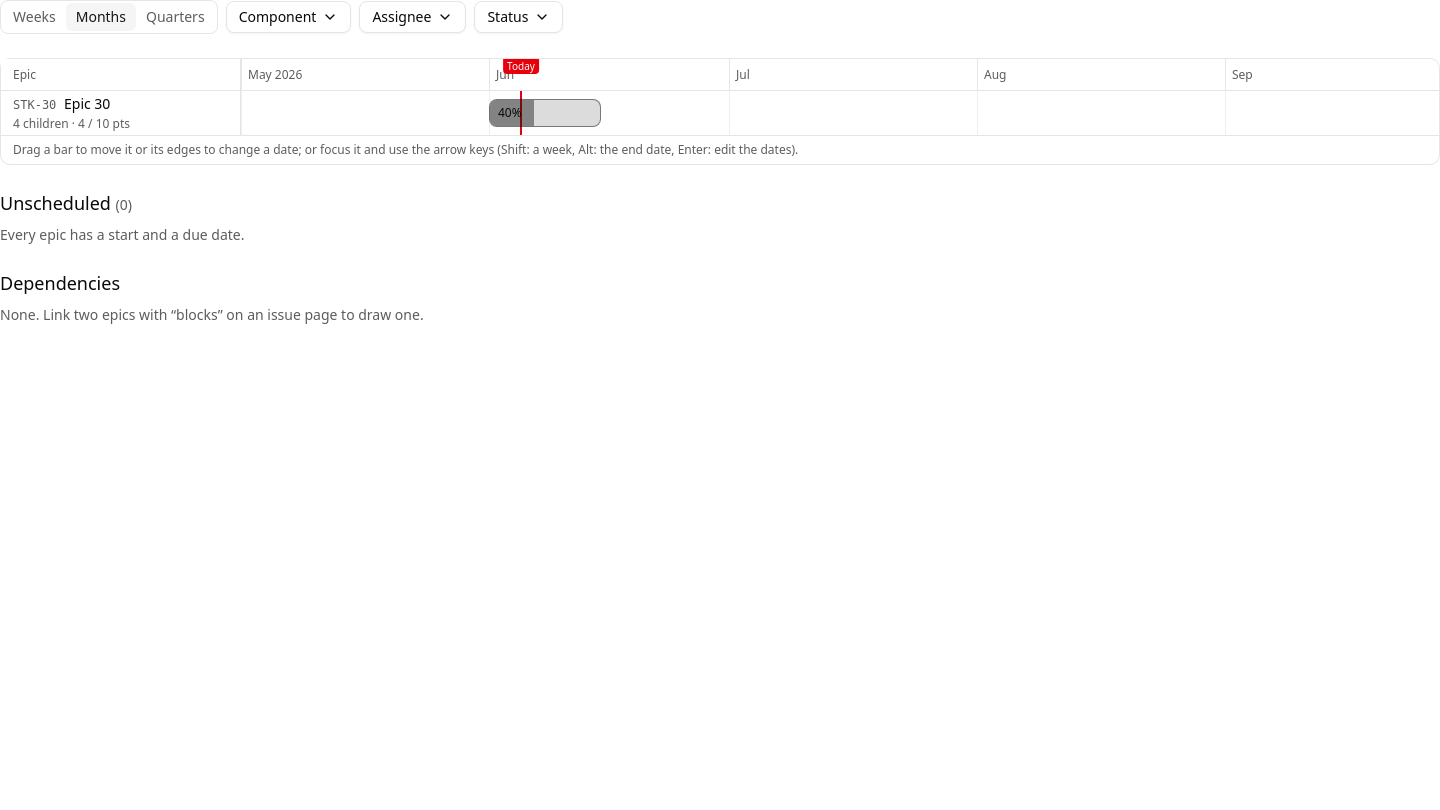
Test: Roadmap (RDM-1) › resizes from an edge, and the next click on the bar still opens the editor
The width and height of the screenshot is (1440, 810).
Press the mouse on the 2nd element with class "cursor-ew-resize" at (597, 113), box x1=593 y1=99 x2=601 y2=127
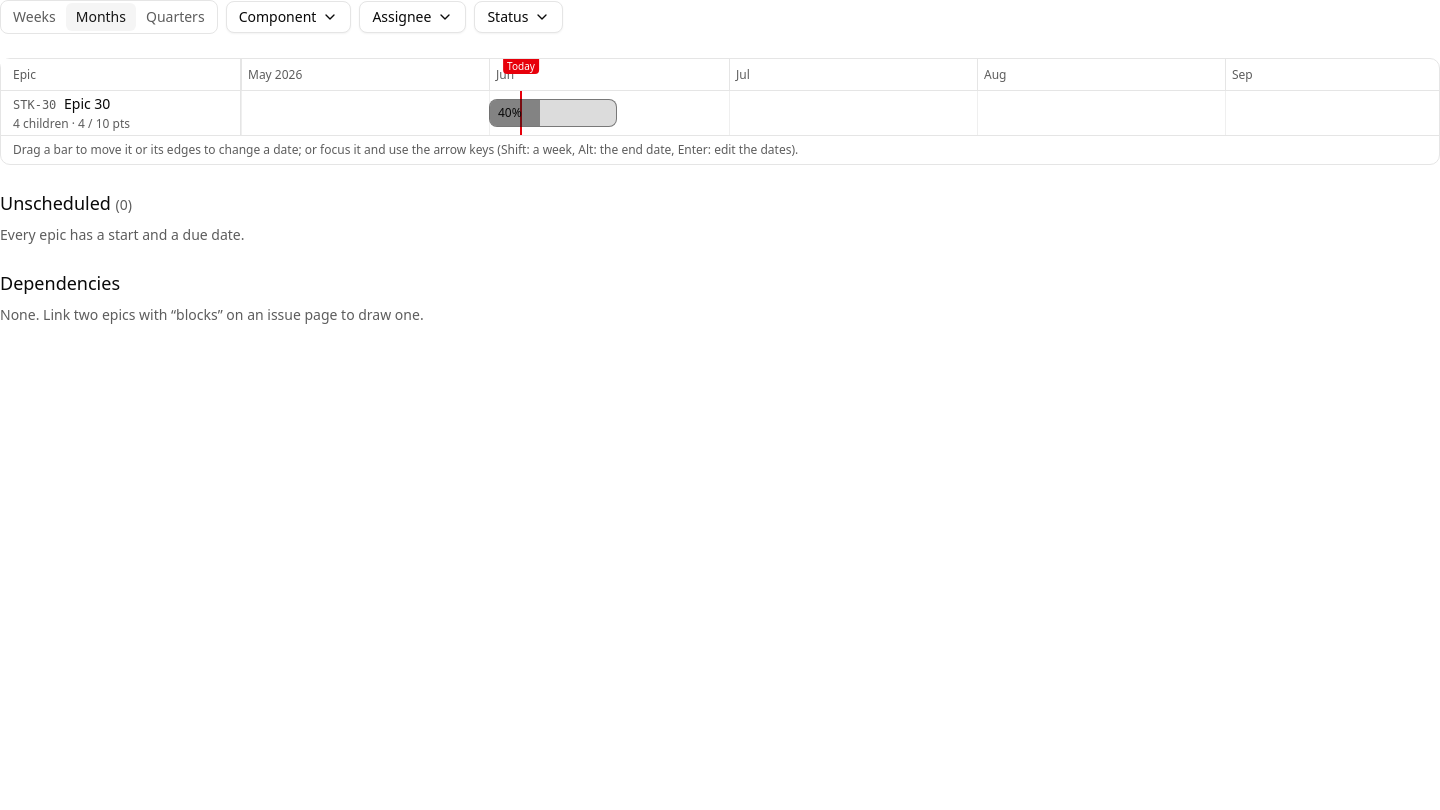
Click the button "40%".
click(553, 113)  # box x1=489 y1=99 x2=617 y2=127
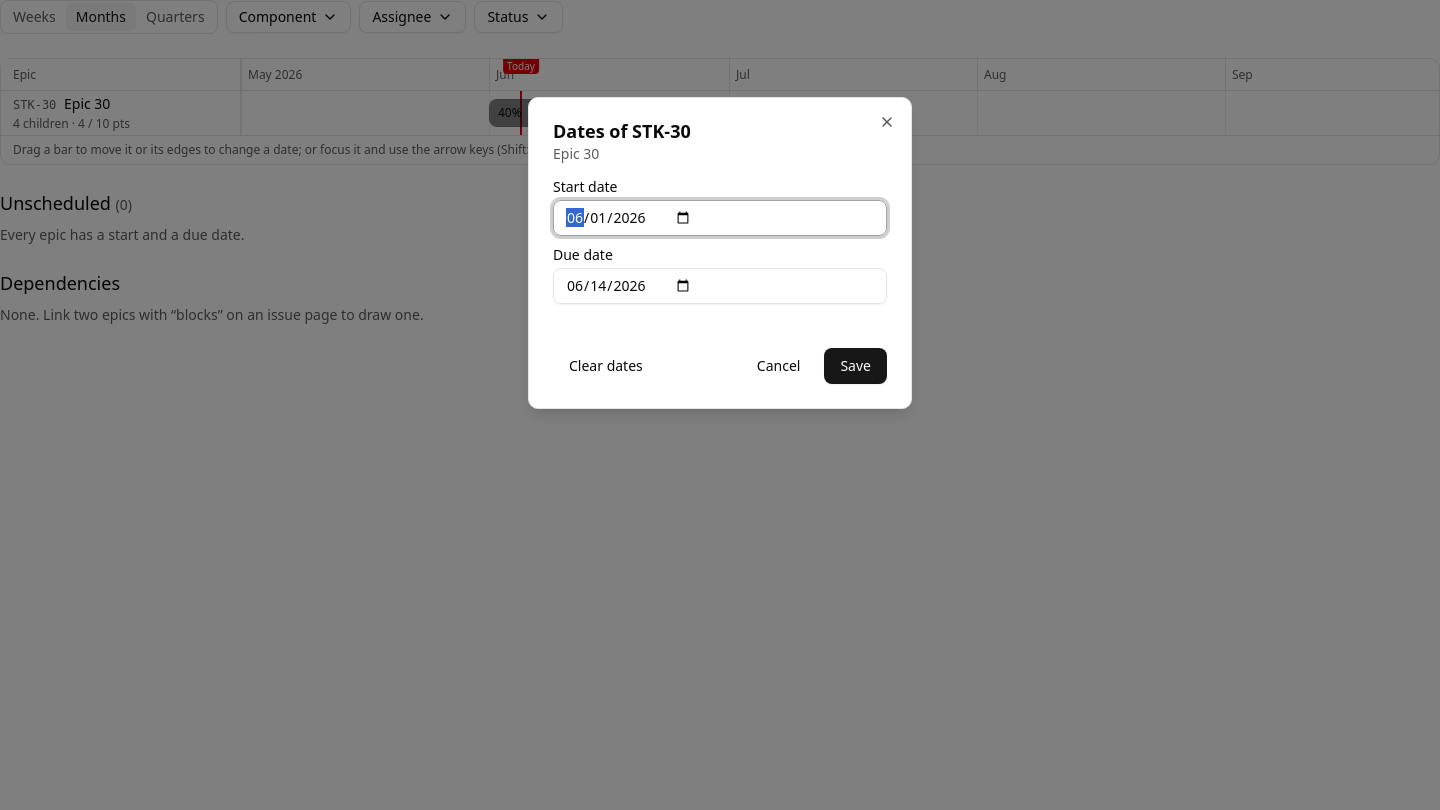
Result: the dialog is shown at x1=528 y1=97 x2=912 y2=409
